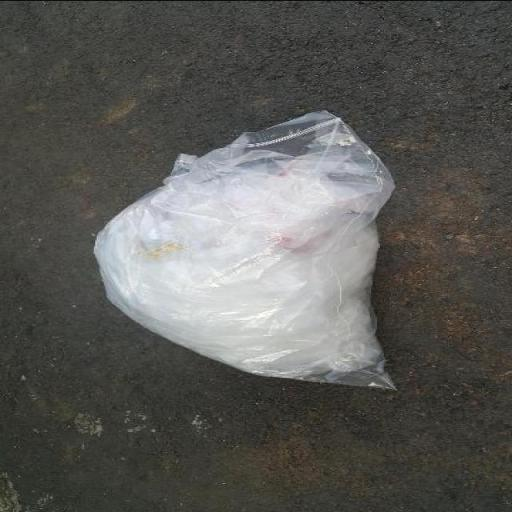plastic-bag: (92, 109, 398, 390)
